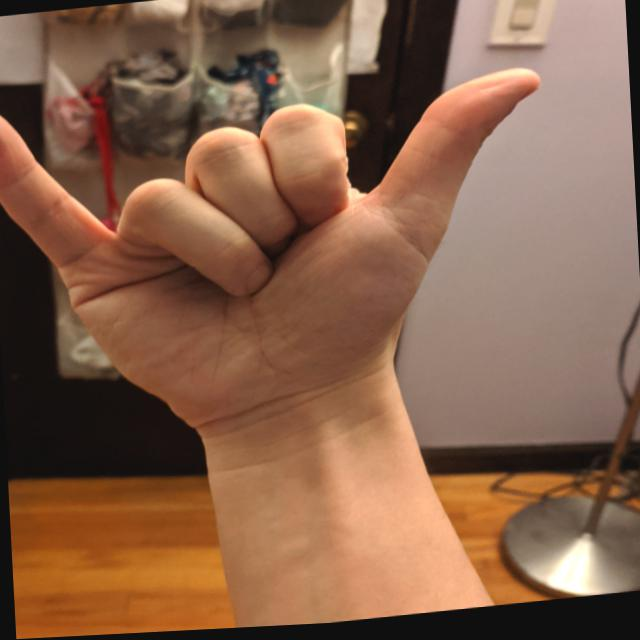Y: (0, 46, 568, 442)
